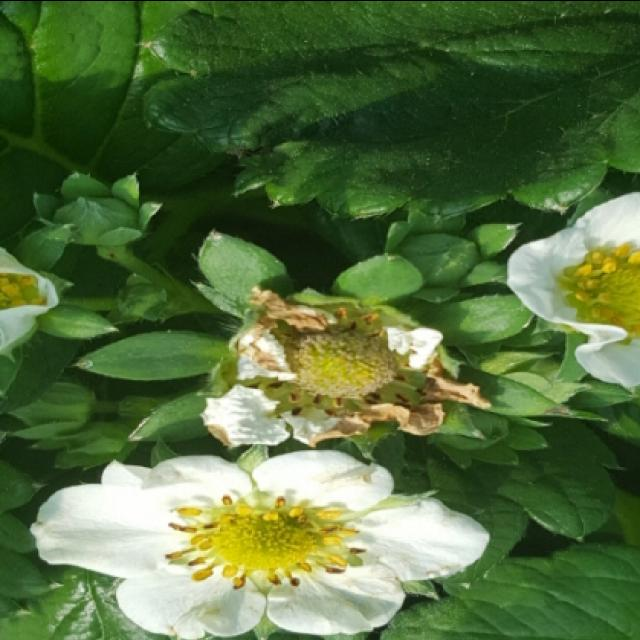Blossom Blight: (244, 301, 436, 423), (162, 490, 369, 594)
